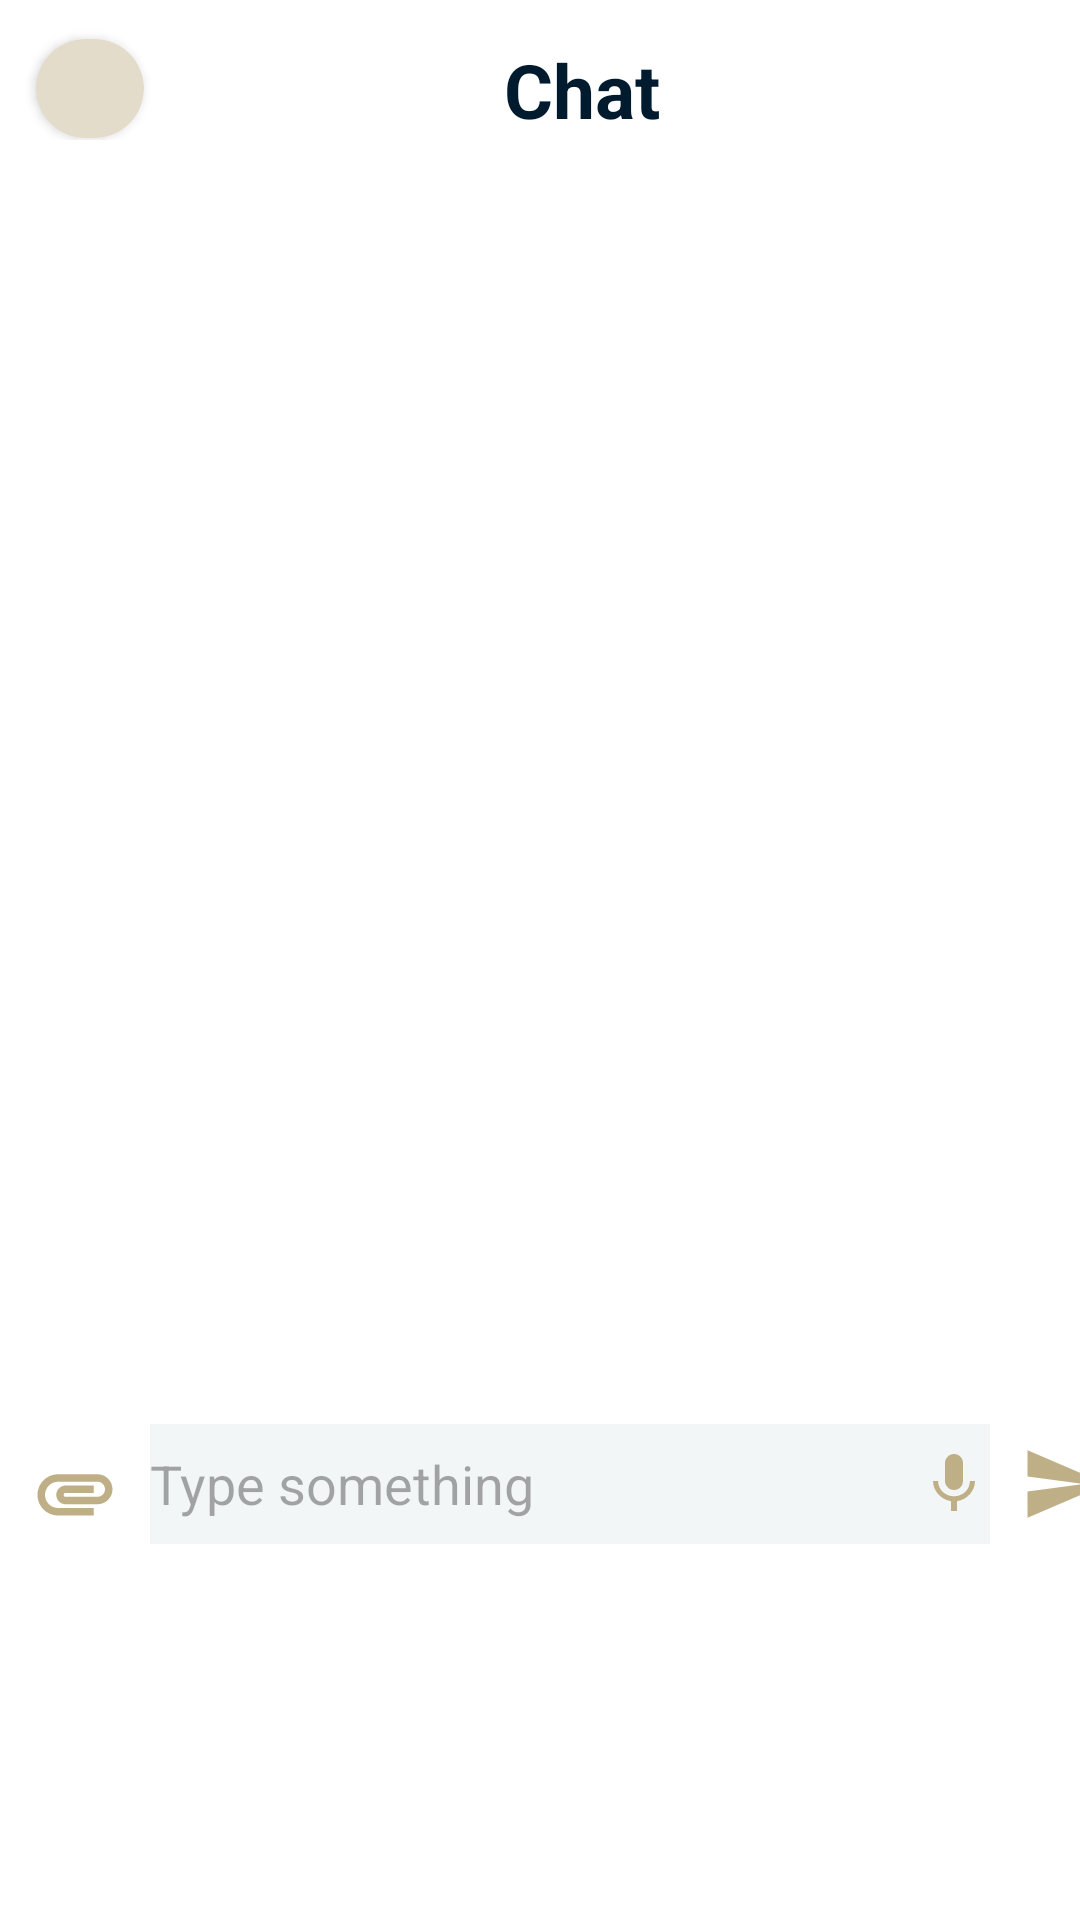

Icon click points for this 1080*1920 phone screenshot, format (x,y):
attachment: (75,1495)
